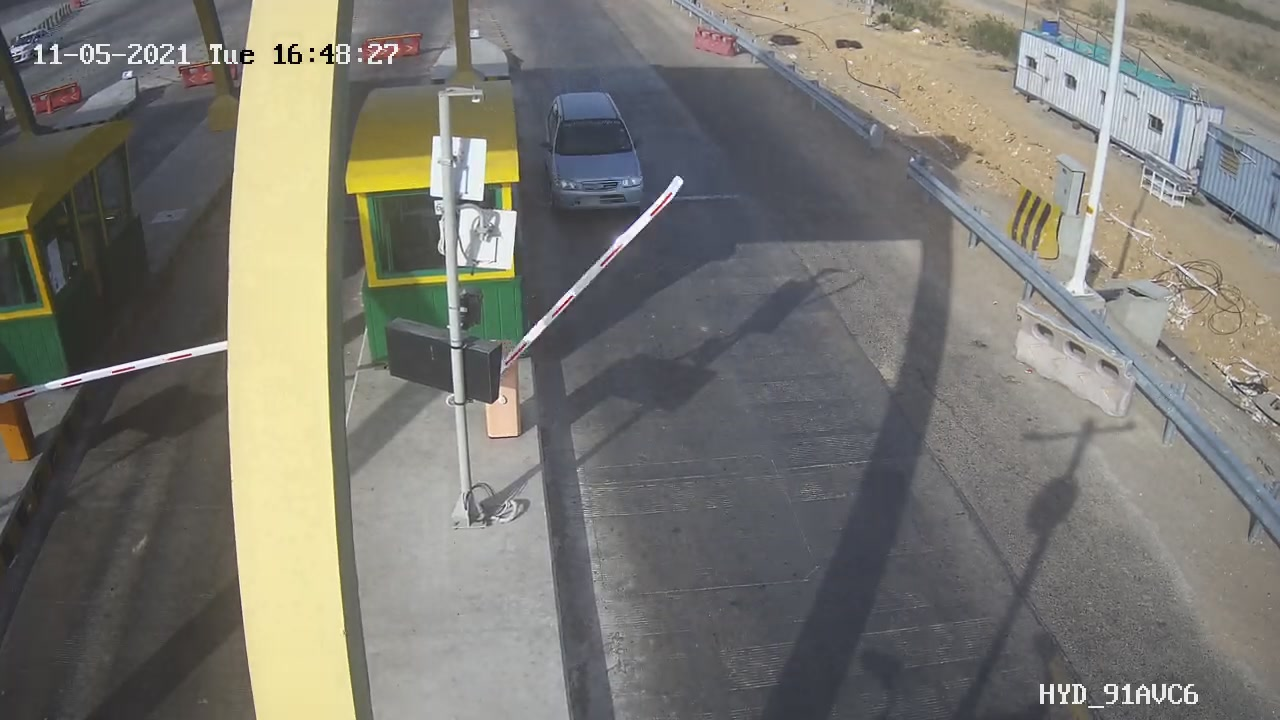F1: (527, 77, 664, 218)
